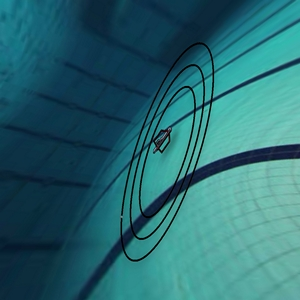circle: (103, 25, 241, 272)
submarine: (143, 122, 180, 157)
